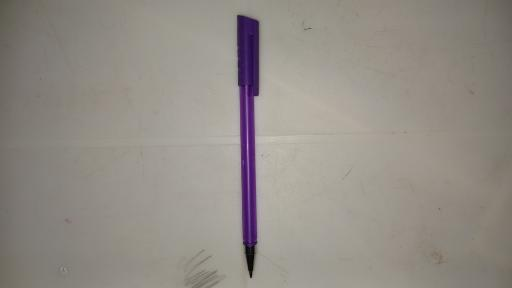pen: (237, 15, 259, 279)
